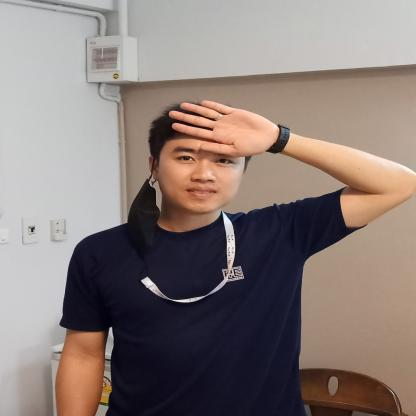Sick: (98, 87, 332, 185)
